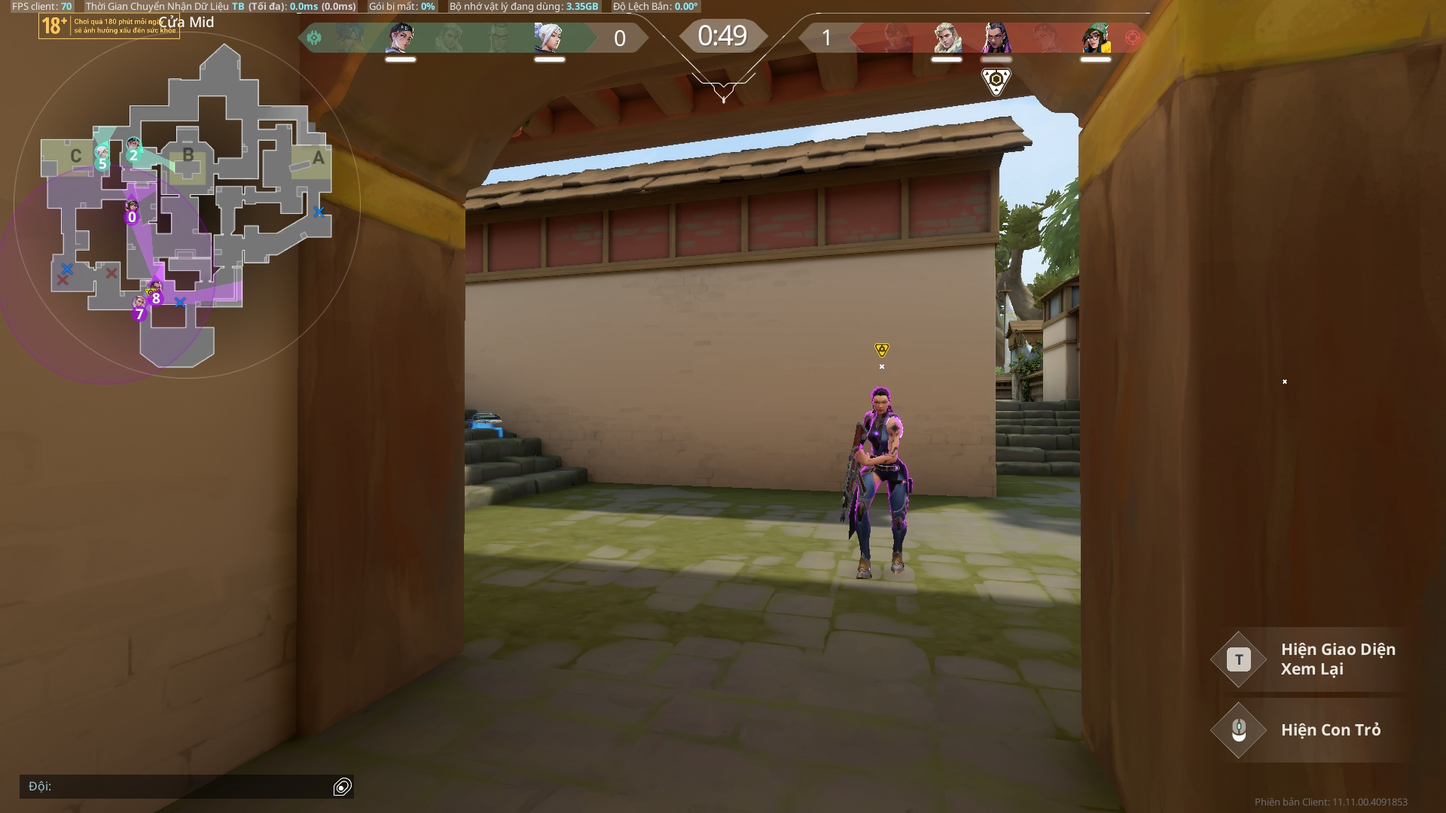body: (859, 410, 903, 452)
head: (870, 385, 891, 413)
